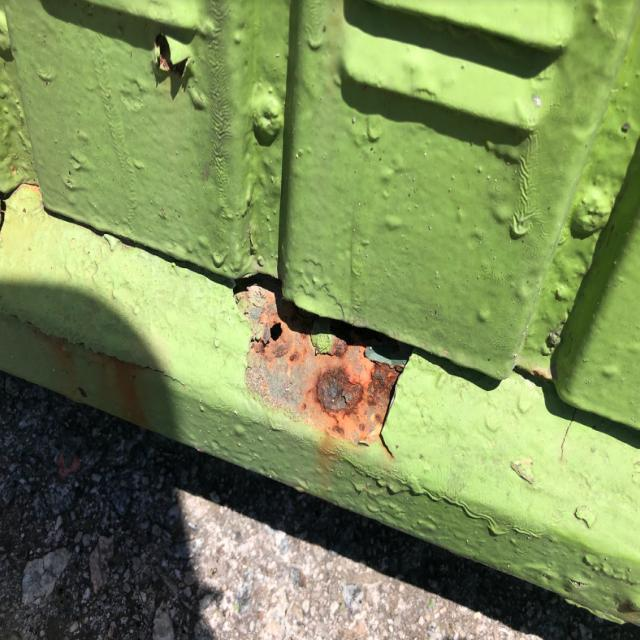Corrosion: (238, 275, 415, 459), (81, 333, 181, 388), (155, 31, 187, 80)
